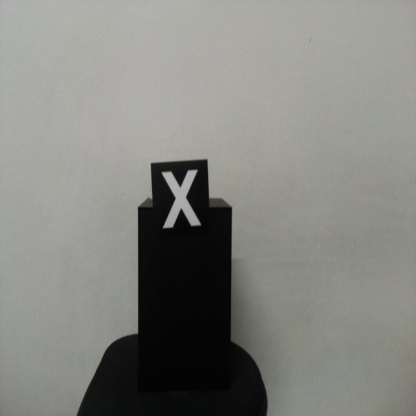id_13: (150, 162, 208, 237)
